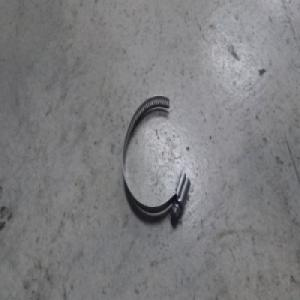AdjustableClamp: (121, 94, 191, 222)
